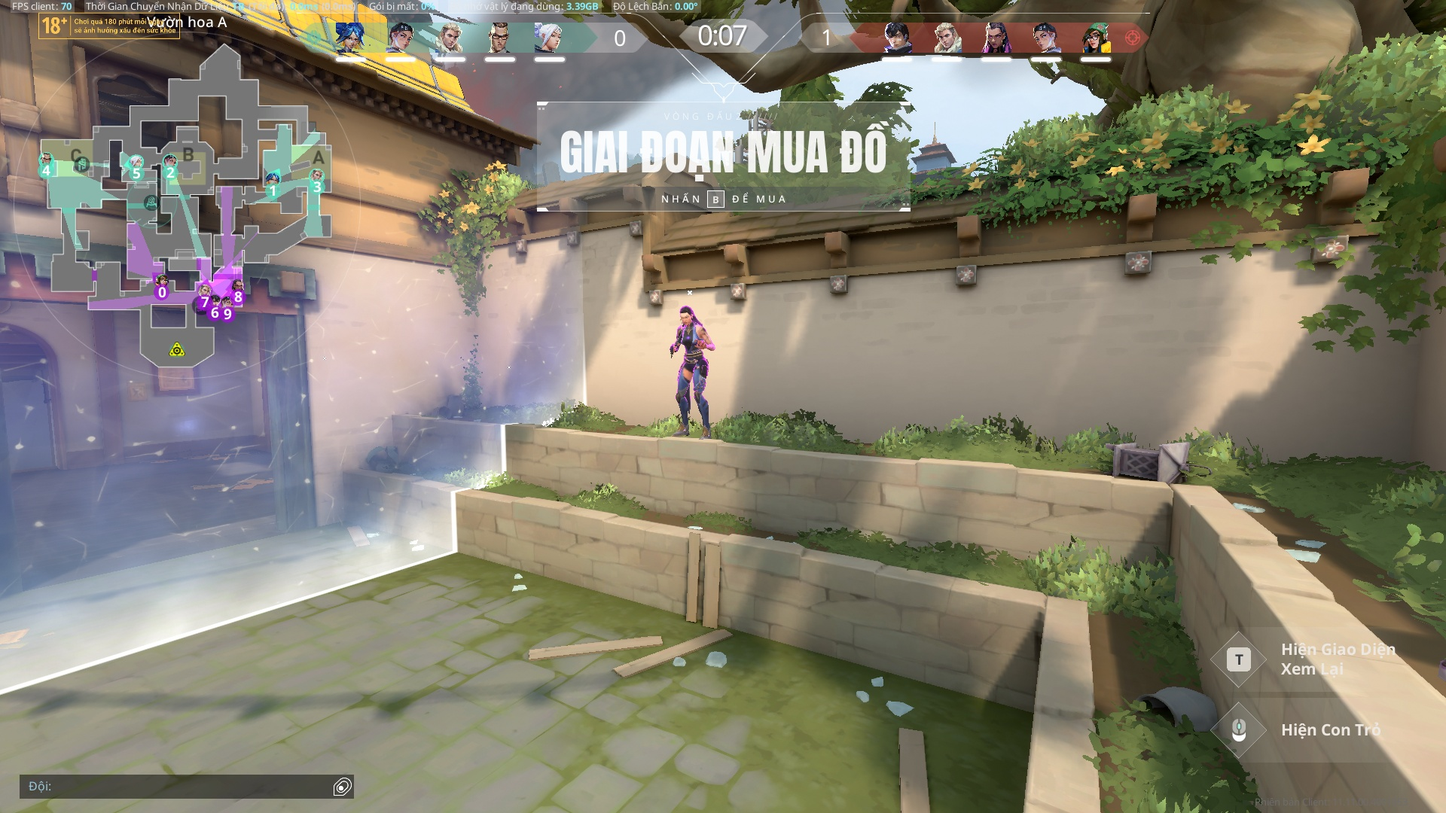body: (677, 322, 707, 353)
head: (678, 307, 693, 323)
